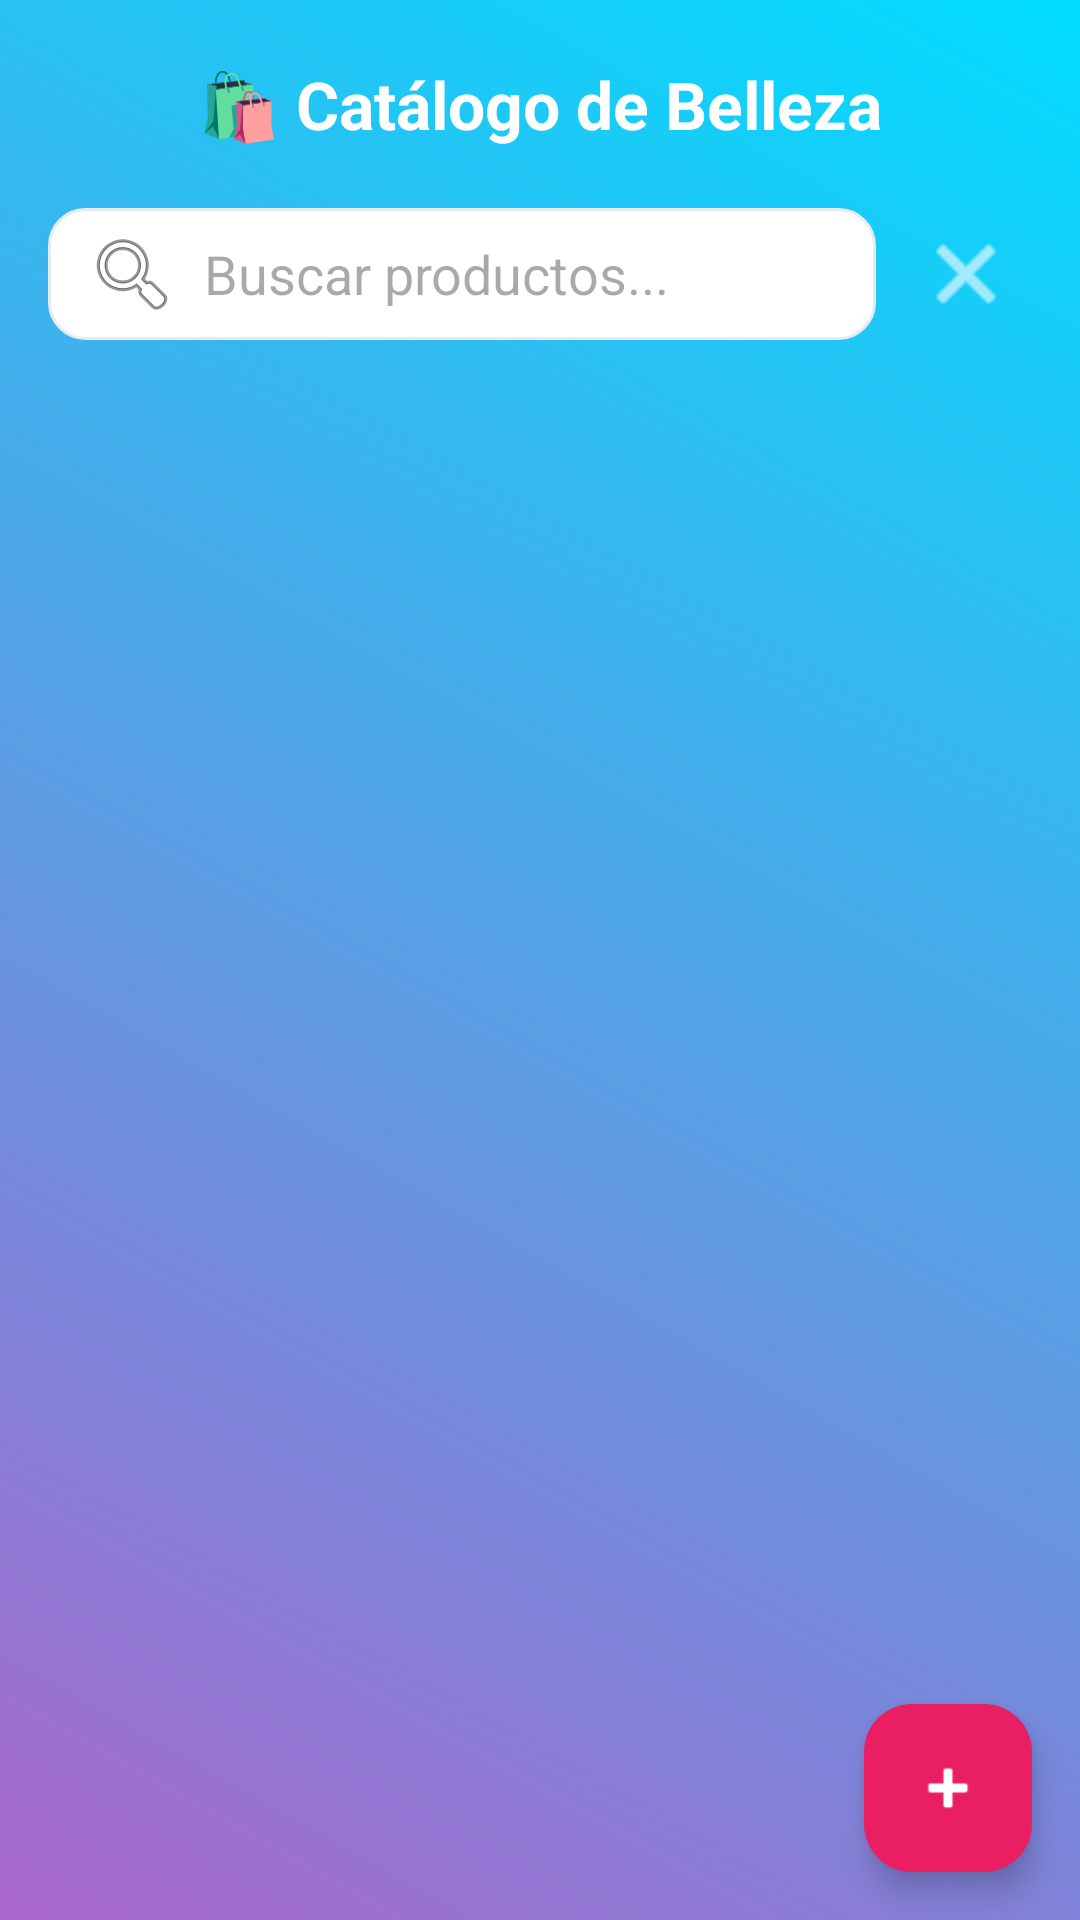

Where to tap for icons on this 1080×1920 app screen, as (x,y):
add: (948,1788)
Limpiar: (966,274)
